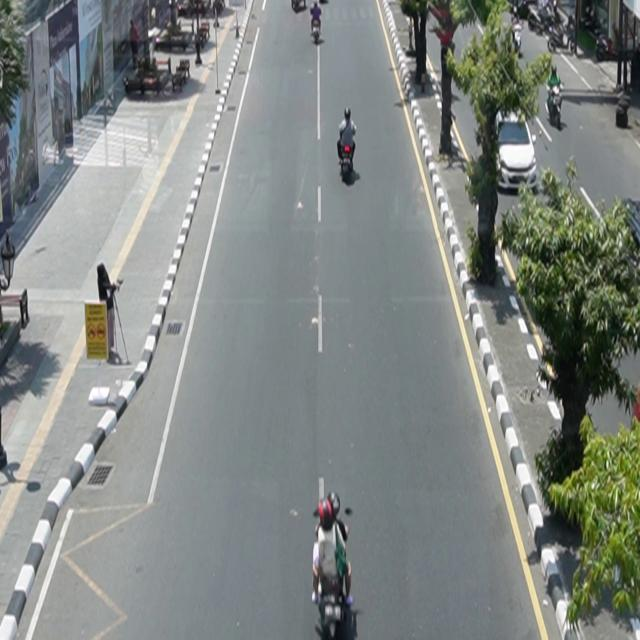car: (495, 108, 539, 195)
